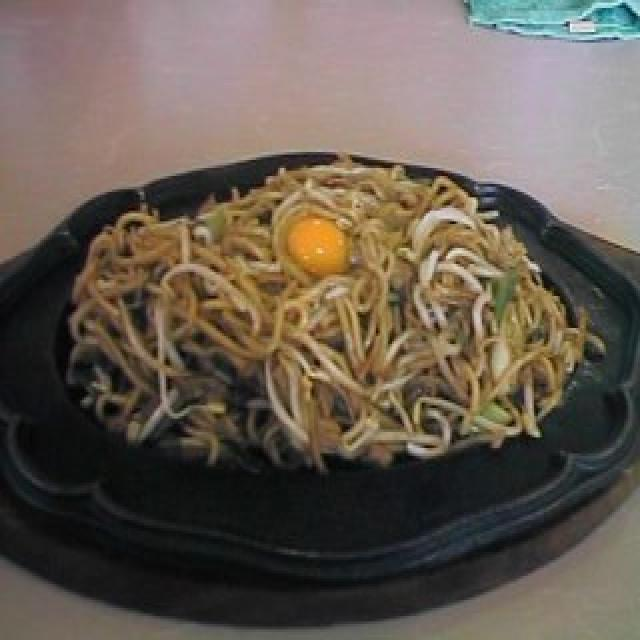面条主食: (60, 149, 572, 475)
